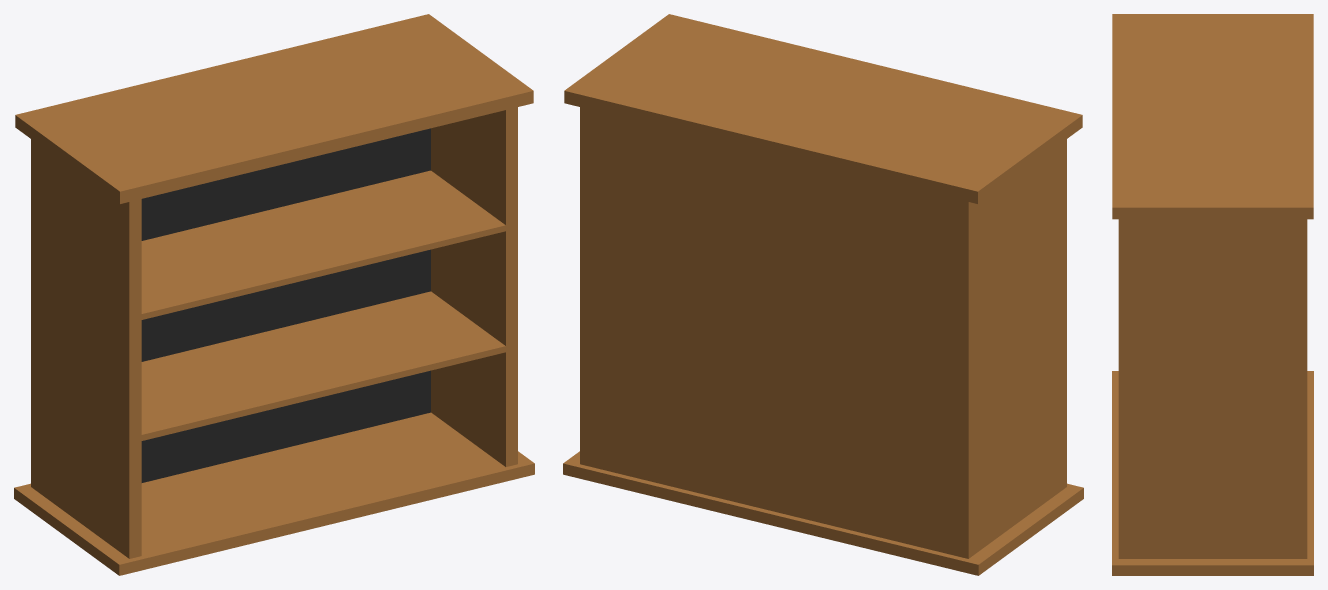
File: bookshelf.dae
3 renders of one model, left to right at view 1: azimuth 30°, elevation 25°; view 2: azimuth 150°, elevation 25°; view 3: azimuth 270°, elevation 25°, orthographic. The views are drawn at different scales.
Visible parts, largest first — view 1: Cube, Plane; view 2: Cube; view 3: Cube.
Part boxes in pixels (left/top/right/bottom): Cube: left=14, top=14, right=534, bottom=575; Plane: left=141, top=128, right=430, bottom=482; Cube: left=563, top=14, right=1083, bottom=575; Cube: left=1112, top=14, right=1313, bottom=575.
Bounding box in the file's own units: 7.59 × 3.33 × 6.71.
